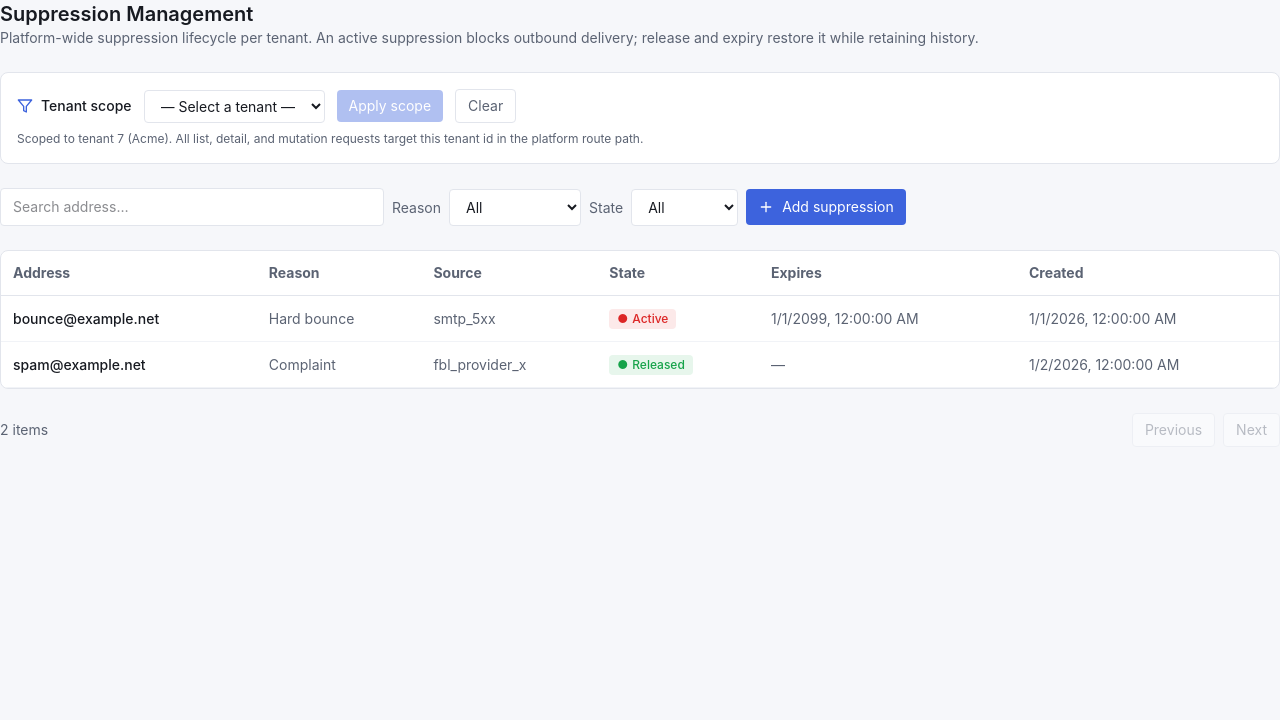
Scenario: features/platform/suppressions › explains operational impact: active blocks delivery, release restores it
Click the text "bounce@example.net" at point(129, 318), box [1,296,257,342]
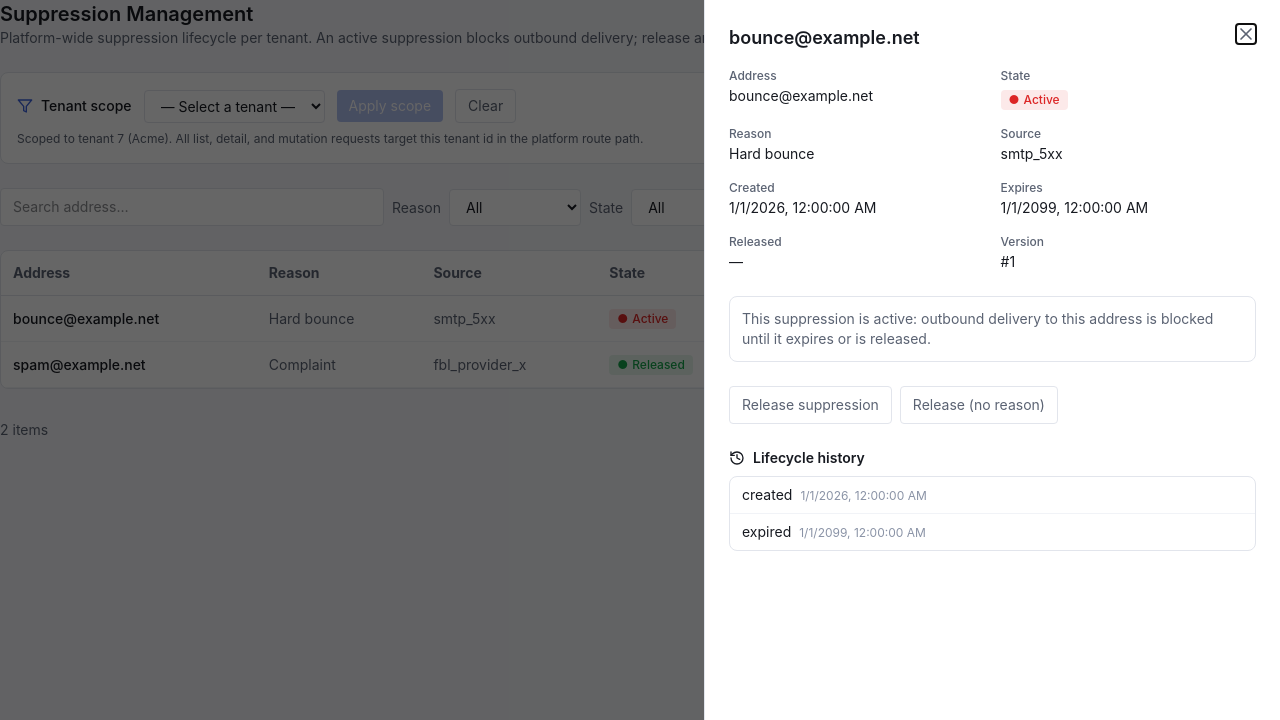
Expected: the text "active: outbound delivery to this address is blocked" is shown, [742,310,1213,347]
Expected: the text "created" is shown, [742,486,792,503]
